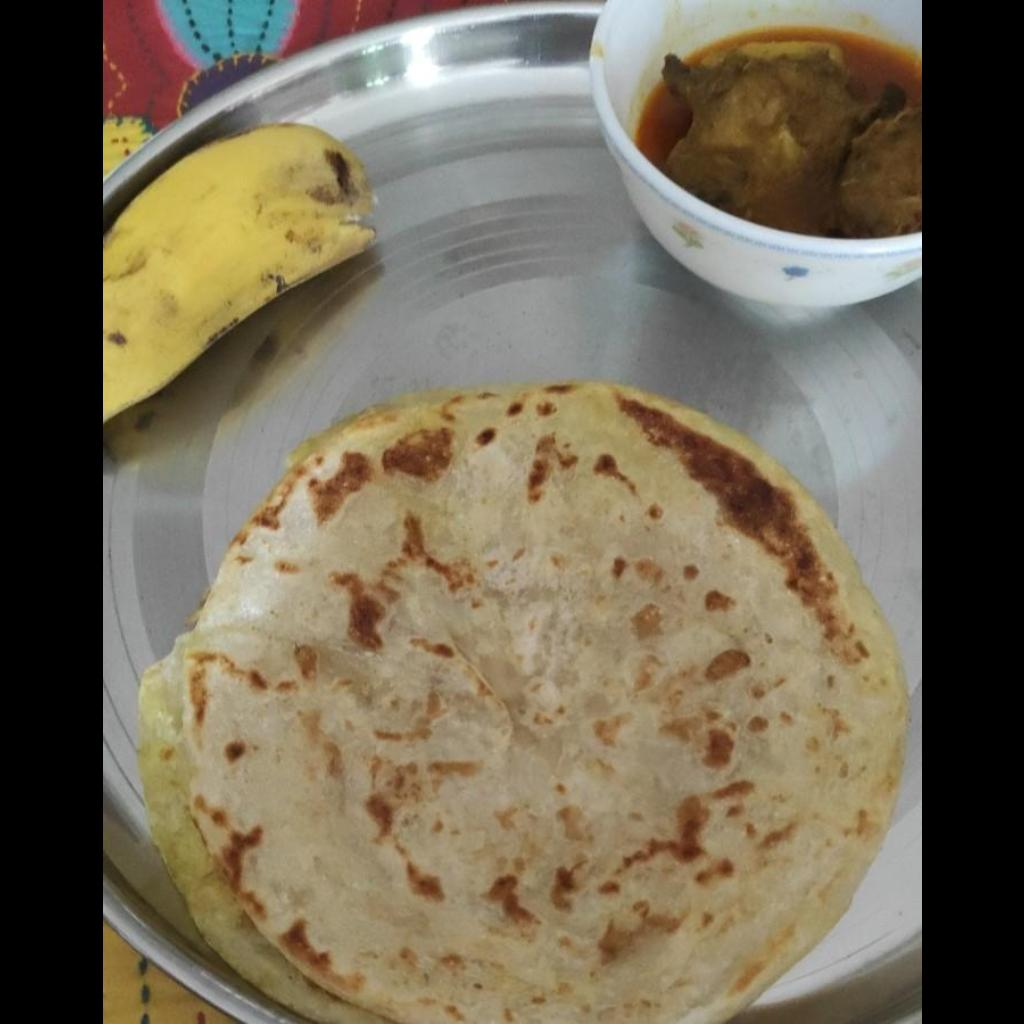banana: (102, 121, 374, 419)
chicken: (656, 40, 920, 235)
ruti: (131, 378, 907, 1020)
